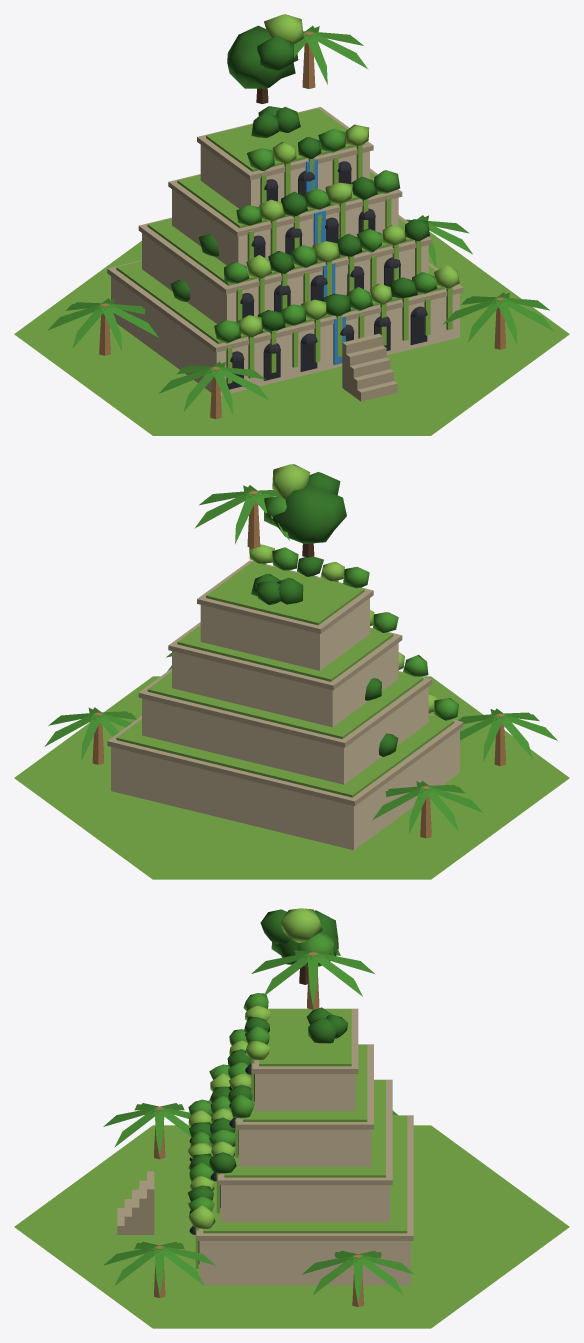
File: wonder_hanging_gardens.fbx
3 views of the same model, one above another, from view 1: azimuth 30°, elevation 25°; view 2: azimuth 150°, elevation 25°; view 3: azimuth 270°, elevation 25° (orthographic).
Visible parts, largest first — view 1: wonder_hanging_gardens; view 2: wonder_hanging_gardens; view 3: wonder_hanging_gardens.
Boxes of the visible parts, x1,y1,x2,y2 form: wonder_hanging_gardens: [14, 14, 569, 435]; wonder_hanging_gardens: [14, 464, 569, 879]; wonder_hanging_gardens: [14, 908, 569, 1328].
Bounding box in the file's own units: 183 × 132 × 210.
